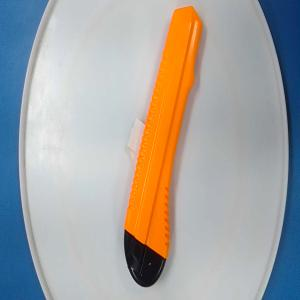estilete: (123, 5, 203, 289)
